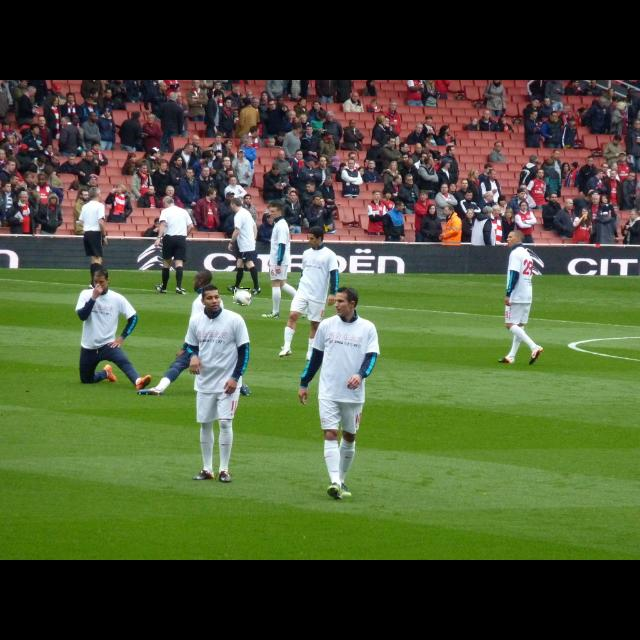Football: (234, 288, 250, 304)
